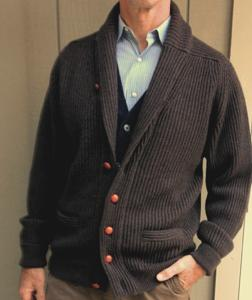C_cardigan sweater: (23, 3, 252, 299)
